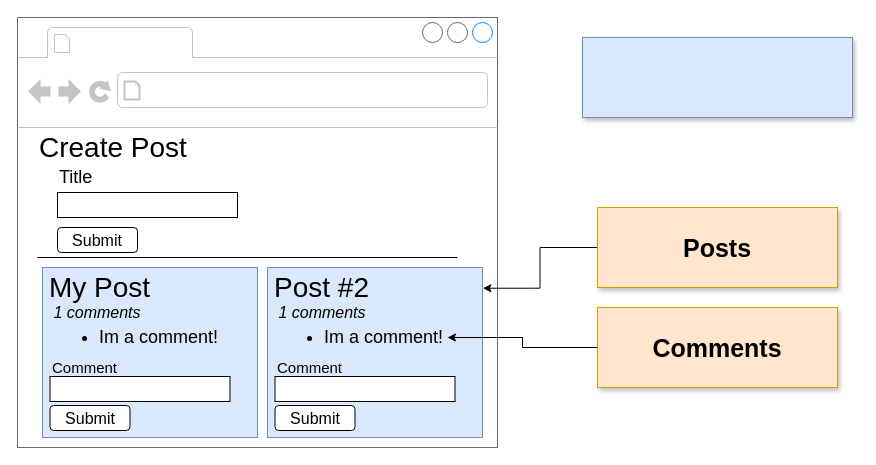
Image size: 876x465. Some labels were removed from this diagram. The centre of each missing label's shape, as x and y in pixels:
https://www.draw.io: [272,90]
Page 1: [132,42]
What services should we create?: [718,78]
